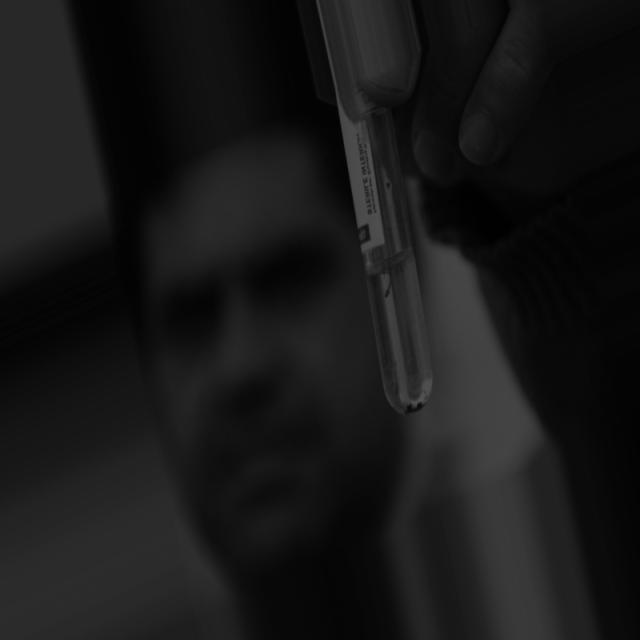larvas: (382, 270, 394, 296), (392, 365, 399, 399)
